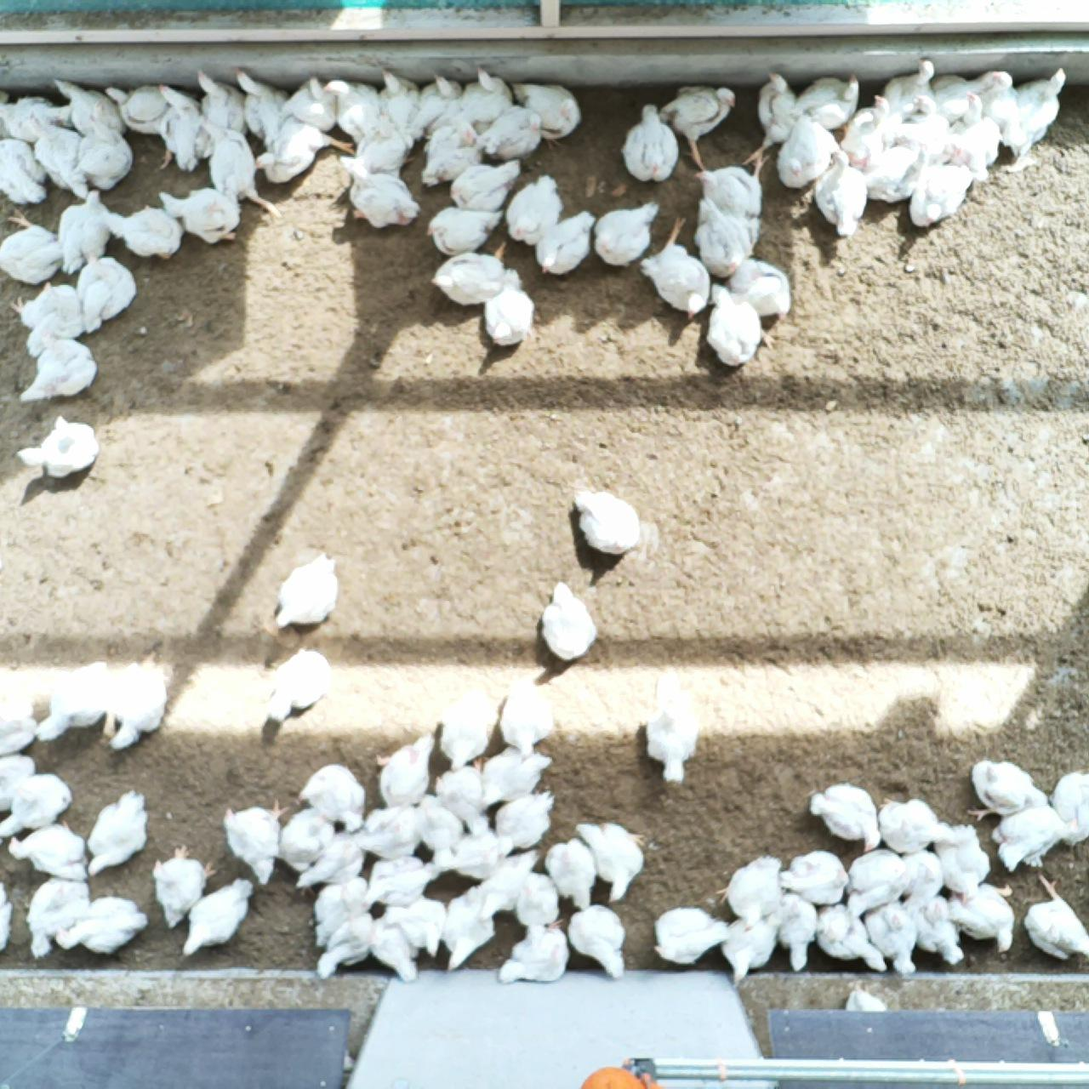chicken: (979, 66, 1064, 170), (203, 120, 283, 221), (659, 84, 741, 176), (641, 212, 713, 314), (257, 113, 360, 184), (740, 73, 809, 171), (646, 671, 703, 789), (574, 820, 652, 906), (104, 661, 174, 755), (180, 878, 257, 961), (37, 657, 114, 738), (336, 156, 418, 231), (18, 333, 101, 407), (87, 788, 156, 877), (147, 84, 212, 177), (224, 794, 289, 886), (992, 802, 1078, 871), (24, 872, 89, 962), (268, 645, 336, 731), (0, 771, 77, 846), (966, 755, 1050, 823), (1022, 875, 1089, 960), (12, 284, 108, 343), (814, 903, 890, 977), (55, 895, 148, 955), (273, 550, 341, 632), (708, 286, 776, 368), (694, 200, 761, 283), (808, 779, 885, 851), (696, 153, 775, 223), (20, 418, 100, 484), (715, 856, 785, 931), (8, 823, 90, 887), (49, 74, 128, 139), (372, 910, 437, 989), (816, 149, 873, 239), (158, 186, 244, 245), (326, 78, 394, 152), (0, 209, 67, 284), (231, 66, 293, 147), (440, 887, 497, 975), (509, 82, 582, 150), (908, 159, 976, 232), (57, 192, 116, 275), (372, 733, 437, 808), (151, 847, 210, 929), (649, 906, 731, 965), (947, 96, 1002, 183), (931, 815, 990, 896), (355, 801, 433, 862), (868, 898, 926, 980), (477, 847, 543, 919), (498, 917, 570, 983), (875, 798, 961, 853), (929, 66, 1009, 125), (533, 210, 600, 280), (477, 747, 556, 806), (33, 125, 95, 200), (355, 104, 417, 179), (838, 96, 899, 172), (949, 884, 1017, 952), (776, 121, 840, 192), (294, 832, 367, 894), (195, 68, 253, 146), (906, 894, 967, 968), (491, 792, 560, 857), (623, 105, 681, 182), (306, 880, 372, 947), (415, 123, 483, 188), (302, 762, 366, 831), (434, 765, 493, 839), (574, 487, 637, 556), (102, 85, 190, 134), (572, 904, 627, 982), (594, 202, 658, 269), (731, 256, 794, 324), (313, 918, 381, 981), (505, 176, 567, 245), (112, 205, 187, 262), (78, 251, 139, 321), (542, 581, 597, 658), (443, 690, 498, 767), (897, 95, 955, 168), (720, 919, 785, 984), (847, 850, 912, 915), (772, 894, 824, 975), (864, 145, 929, 209), (429, 252, 506, 306), (435, 828, 512, 882), (476, 106, 547, 164), (879, 60, 941, 126), (279, 73, 346, 134), (501, 677, 553, 755), (275, 807, 338, 871), (544, 837, 600, 909), (482, 270, 535, 345), (780, 854, 853, 908), (449, 161, 522, 214), (793, 77, 865, 130), (429, 205, 506, 254), (461, 68, 514, 138), (79, 125, 135, 191), (513, 867, 565, 937), (0, 134, 48, 205), (0, 663, 37, 755), (394, 894, 445, 960), (416, 794, 467, 860), (380, 68, 424, 144), (419, 74, 464, 148), (0, 96, 73, 138), (370, 856, 436, 902), (1051, 770, 1089, 848), (894, 850, 948, 901), (0, 752, 37, 820), (0, 880, 13, 957)
